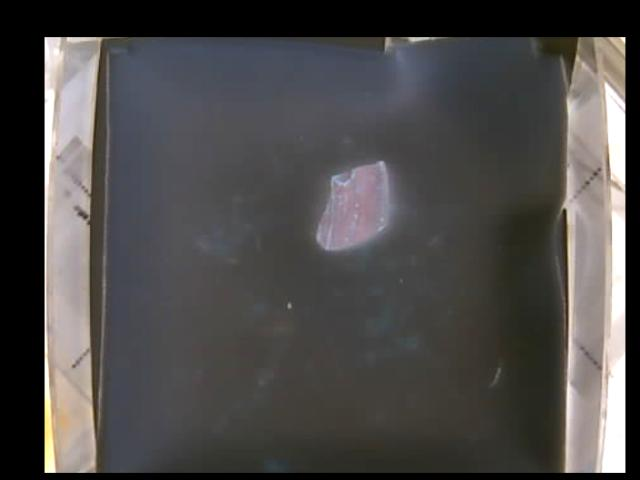China: (313, 160, 391, 254)
